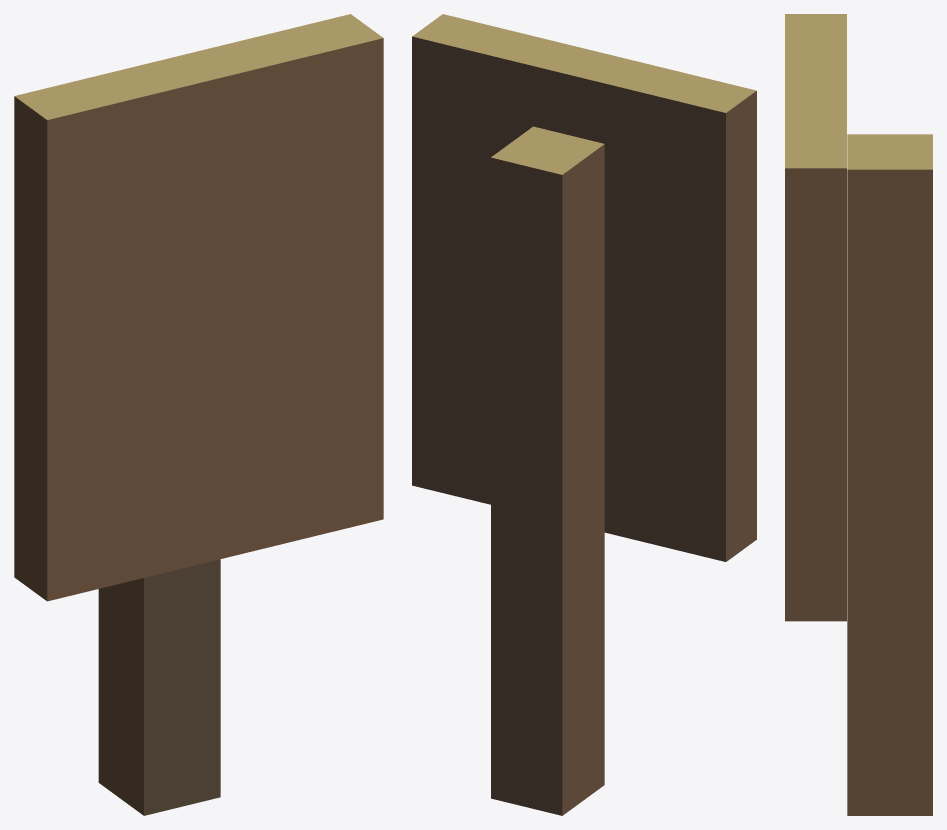
The model's file is TB_D_Prop_Sign_A.FBX.
3 renders of one model, left to right at view 1: azimuth 30°, elevation 25°; view 2: azimuth 150°, elevation 25°; view 3: azimuth 270°, elevation 25°, orthographic. The views are drawn at different scales.
Parts seen in each view (by area): view 1: TB_D_Prop_Sign_A; view 2: TB_D_Prop_Sign_A; view 3: TB_D_Prop_Sign_A.
Part boxes in pixels (<box>): TB_D_Prop_Sign_A: <box>14,14,383,815</box>; TB_D_Prop_Sign_A: <box>412,14,756,815</box>; TB_D_Prop_Sign_A: <box>785,14,932,815</box>.
Bounding box in the file's own units: 0.7306 × 1.56 × 0.2952.
